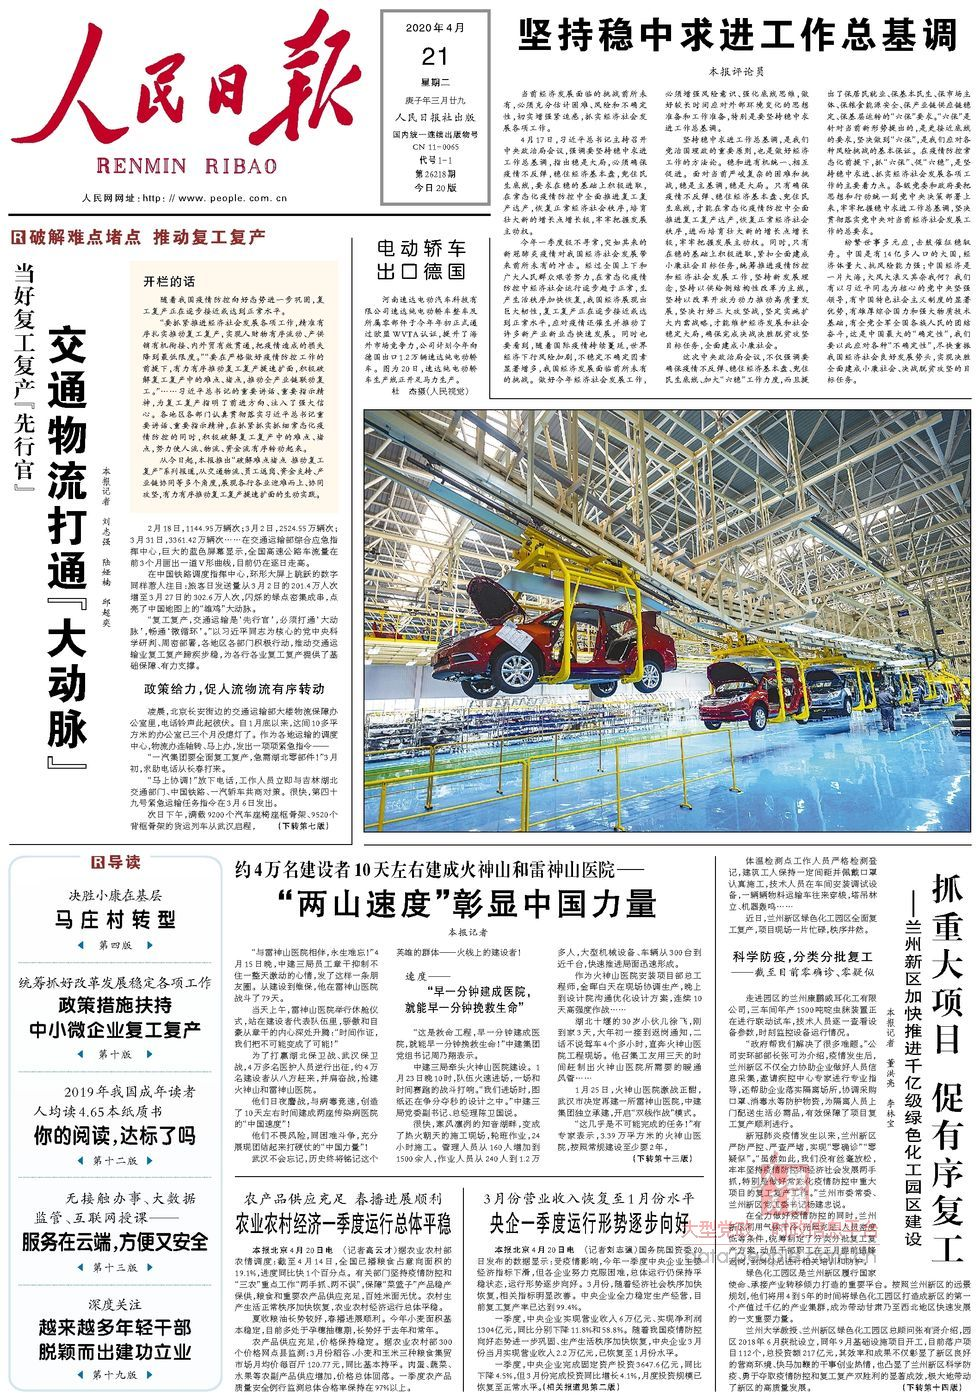pic: (359, 406, 977, 839)
